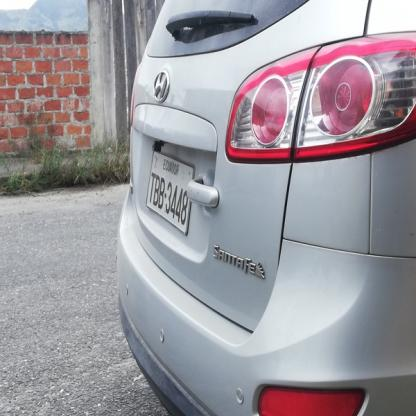Placa: (140, 155, 198, 235)
